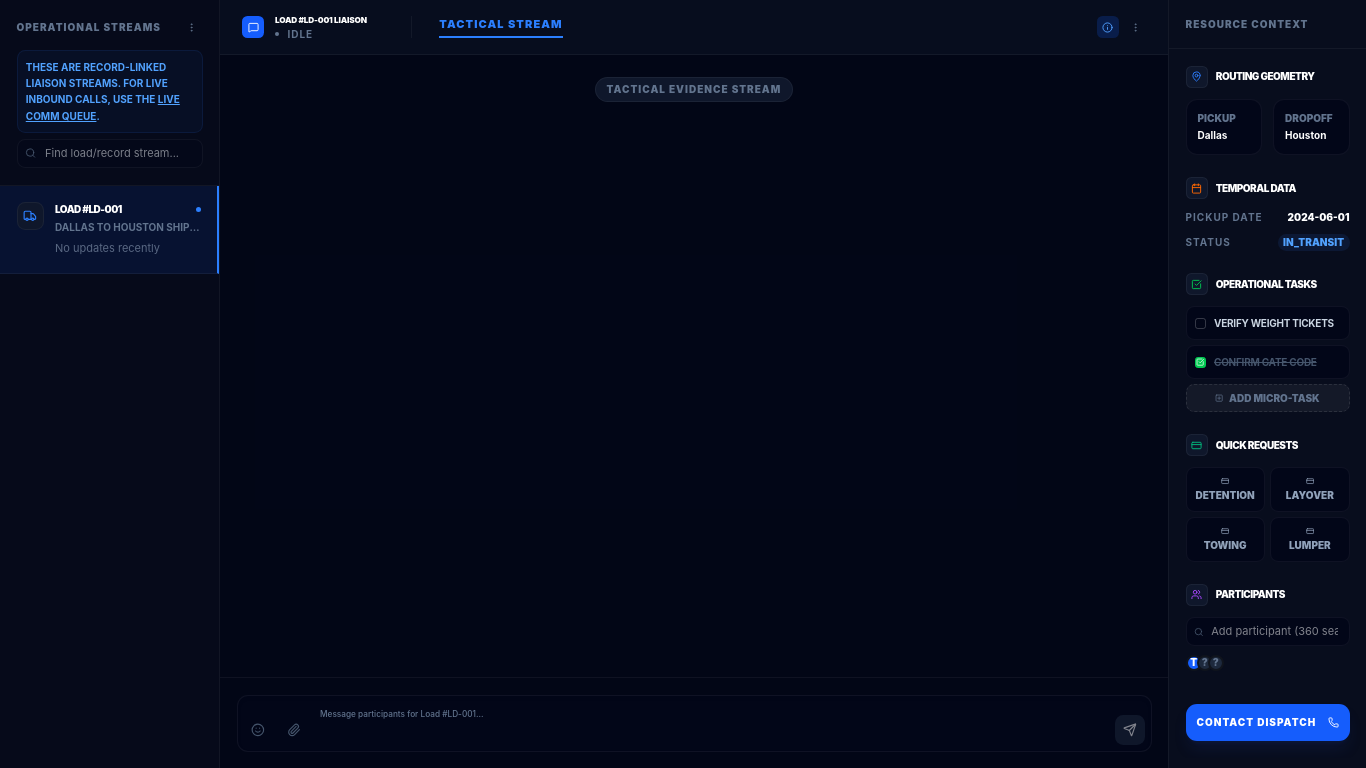
Scenario: OperationalMessaging component › context sidebar toggle › hides context sidebar when info button is clicked
This screenshot has width=1366, height=768.
Expected: the heading "Resource Context" is shown, [1186,18,1308,30]
Click the button named "Toggle context panel": (1108, 27) [1096,16,1118,38]
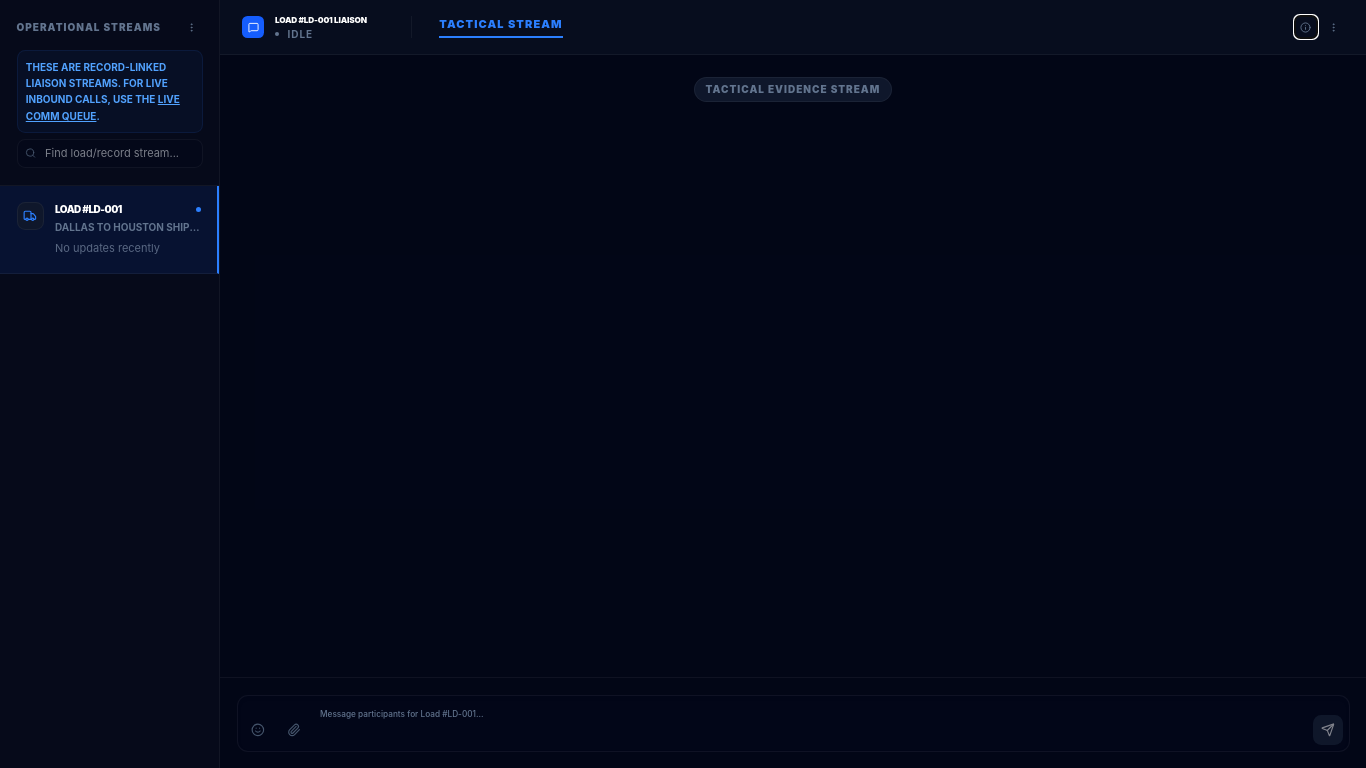
Expected: the heading "Resource Context" is gone
